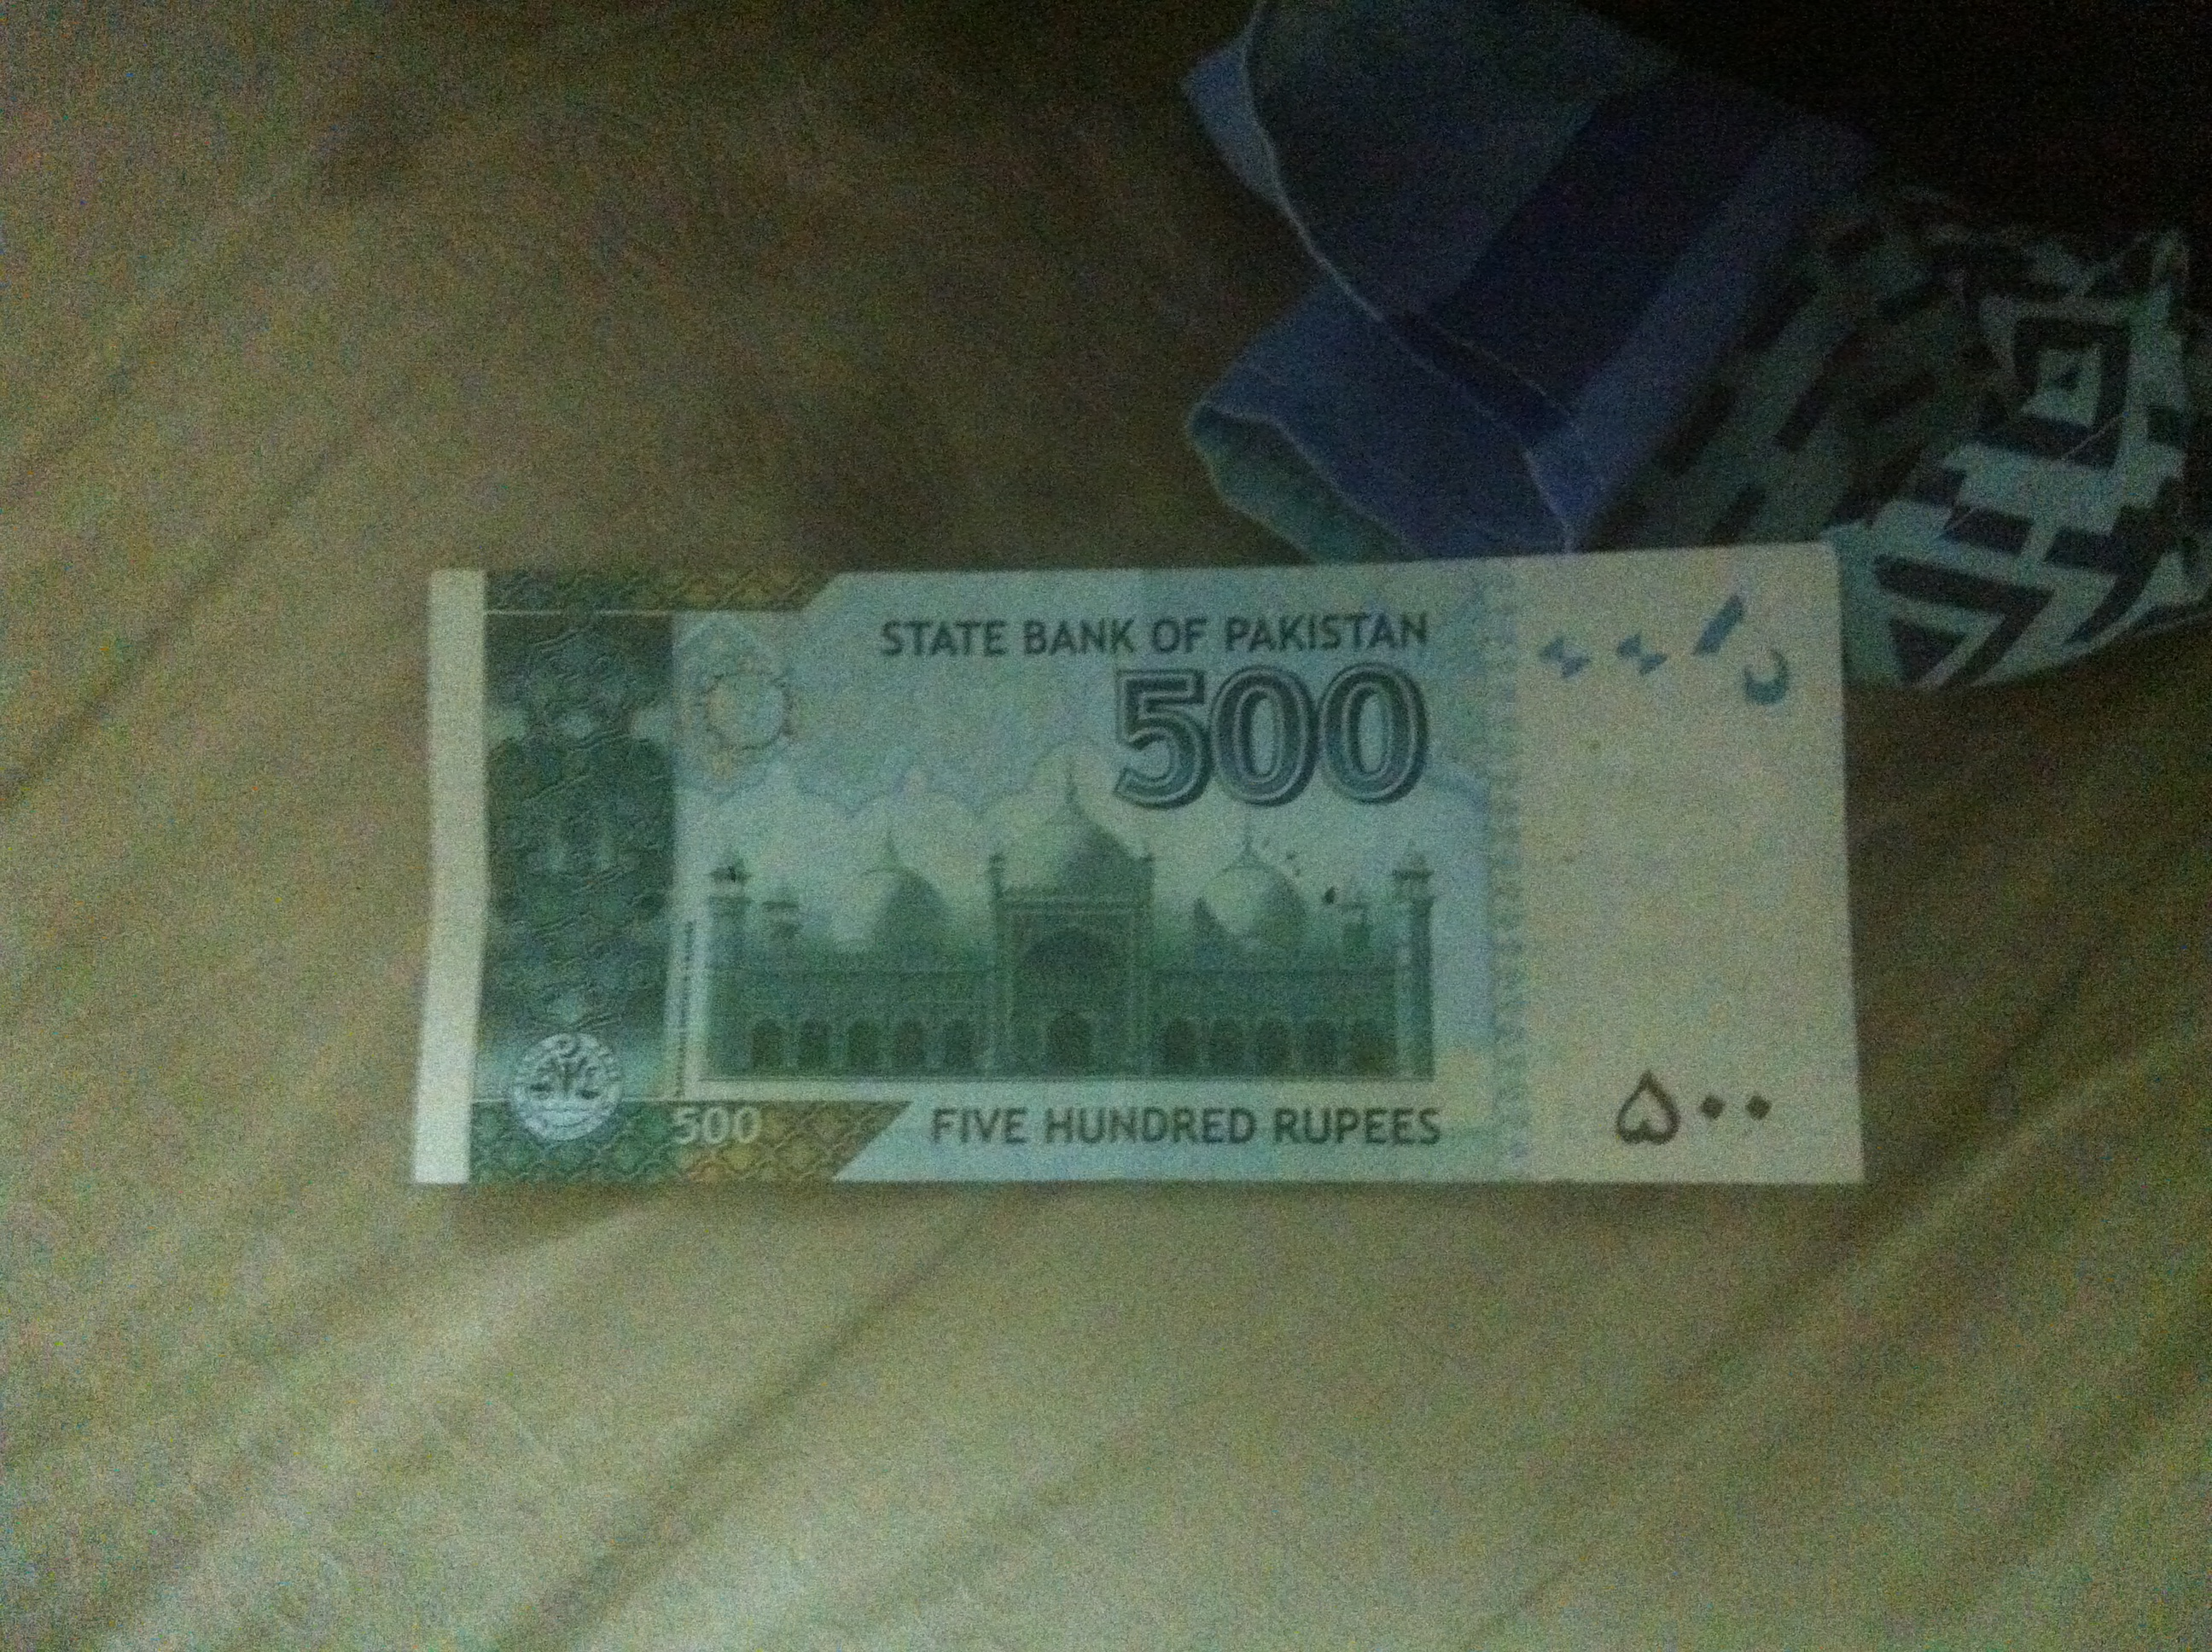500 rupee: (368, 493, 1895, 1220)
